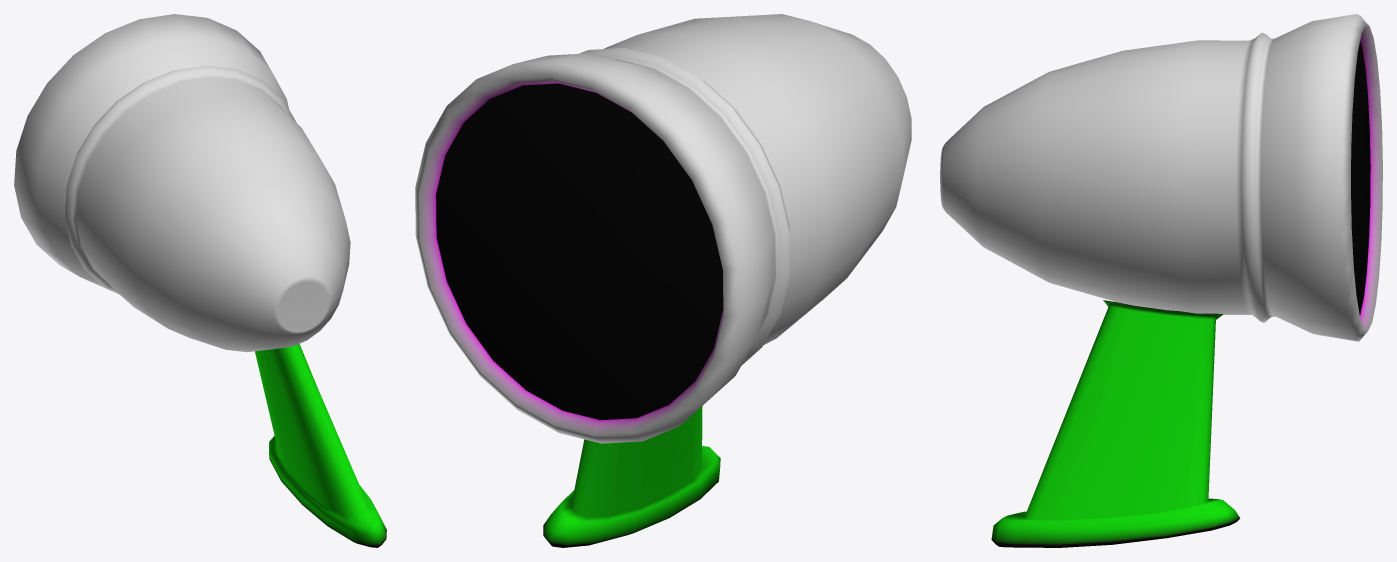
Rendered from Car_Buick_GrandNational_1987_FenderMirrorR_SetXA.fbx.
3 views of the same model, side by side, from view 1: azimuth 30°, elevation 25°; view 2: azimuth 150°, elevation 25°; view 3: azimuth 270°, elevation 25° (orthographic). The views are drawn at different scales.
Visible parts, largest first — view 1: FenderMirrorR 6; view 2: FenderMirrorR 6; view 3: FenderMirrorR 6.
Boxes of the visible parts, <box> form: FenderMirrorR 6: <box>14,14,386,547</box>; FenderMirrorR 6: <box>415,14,911,547</box>; FenderMirrorR 6: <box>940,14,1382,547</box>.
Bounding box in the file's own units: 0.1227 × 0.1987 × 0.1666.
